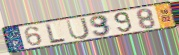6: (23, 26, 44, 47)
8: (136, 8, 158, 30)
9: (89, 14, 113, 37), (113, 11, 134, 33)
L: (45, 22, 68, 45)
U: (65, 16, 92, 41)
